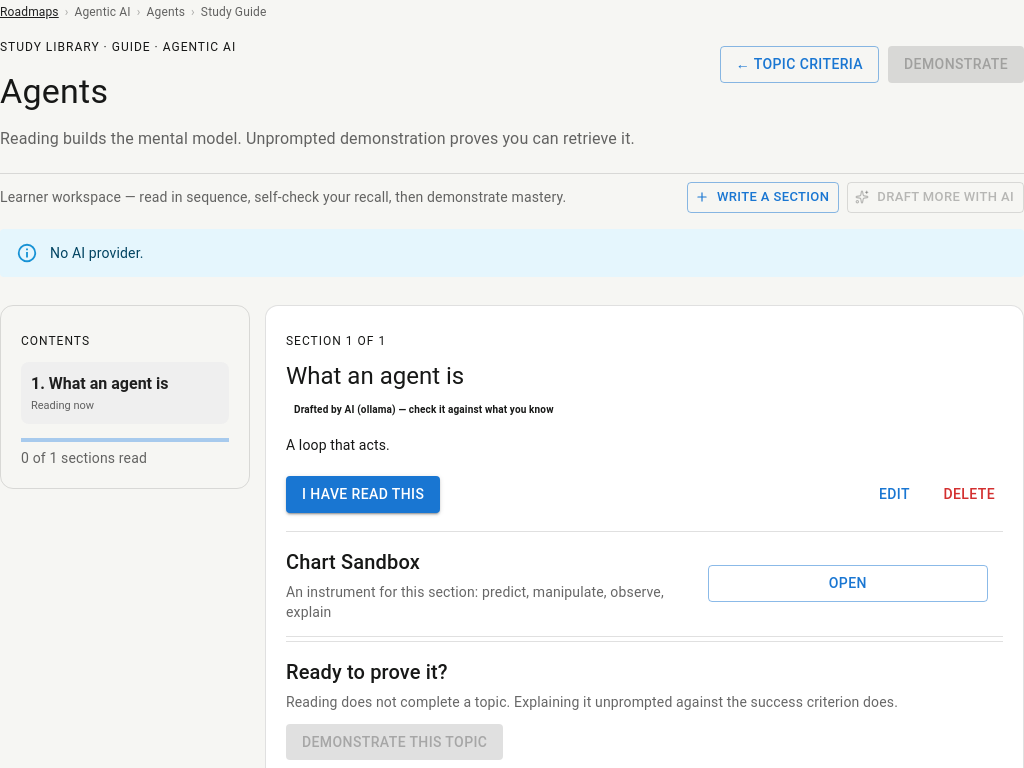
Test case: TopicGuidePage -- who wrote a section (Phase 7, D2) › never offers to relabel an AI draft
The image size is (1024, 768).
Click the button "Edit": (894, 494) x1=862 y1=476 x2=926 y2=513
(page scrolled)
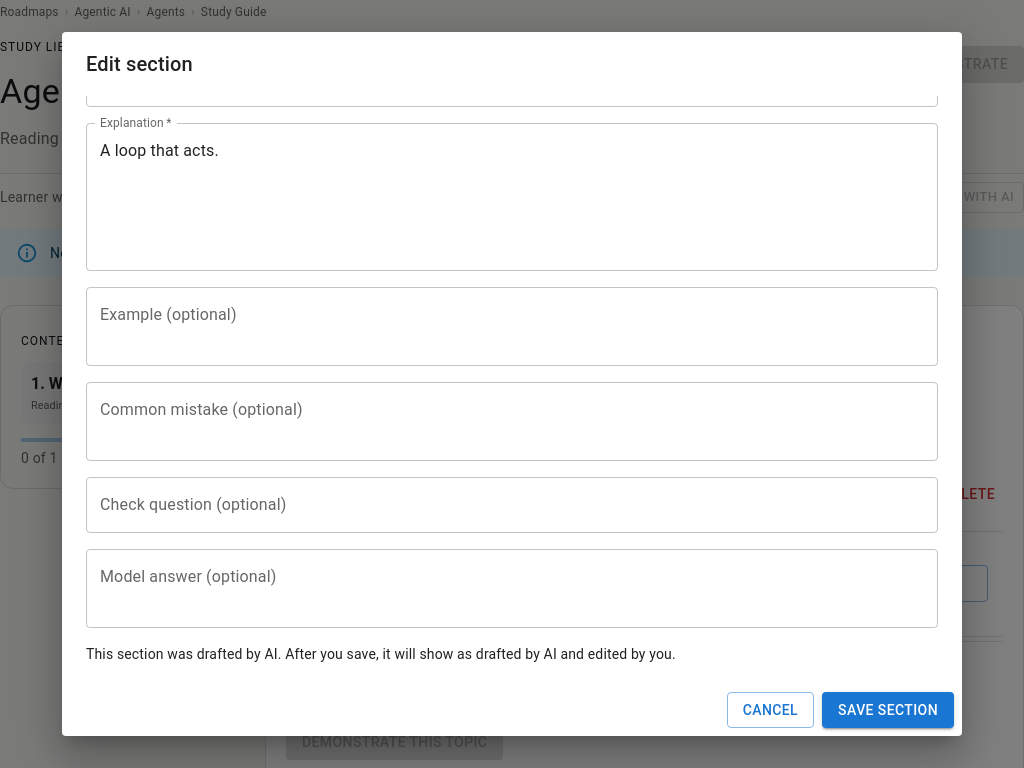
Expected: the text "drafted by AI" is shown, x1=86 y1=646 x2=676 y2=662
